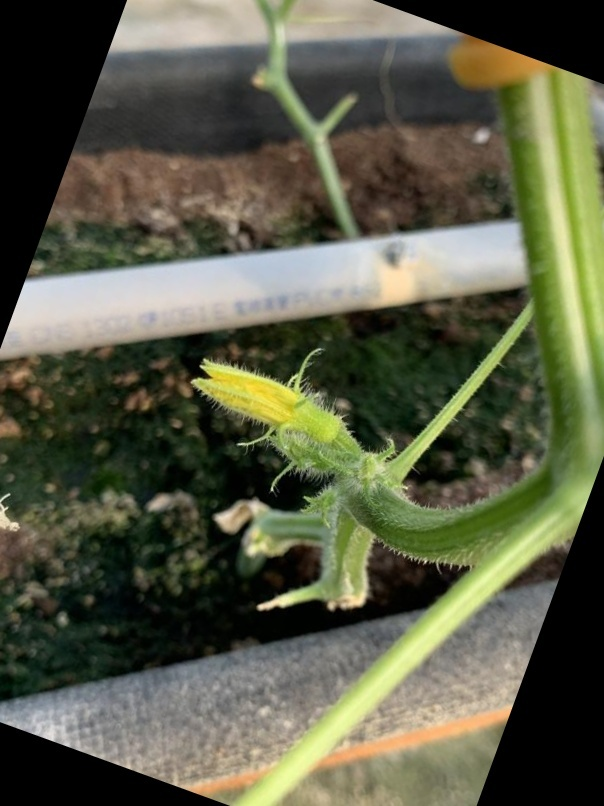bud: (190, 353, 364, 453)
